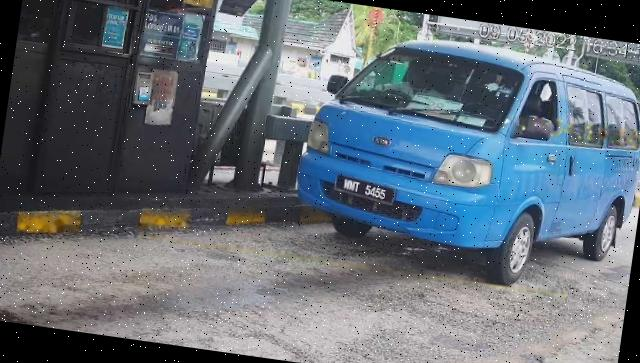License_Plate: (334, 173, 400, 206)
van: (286, 22, 640, 303)
